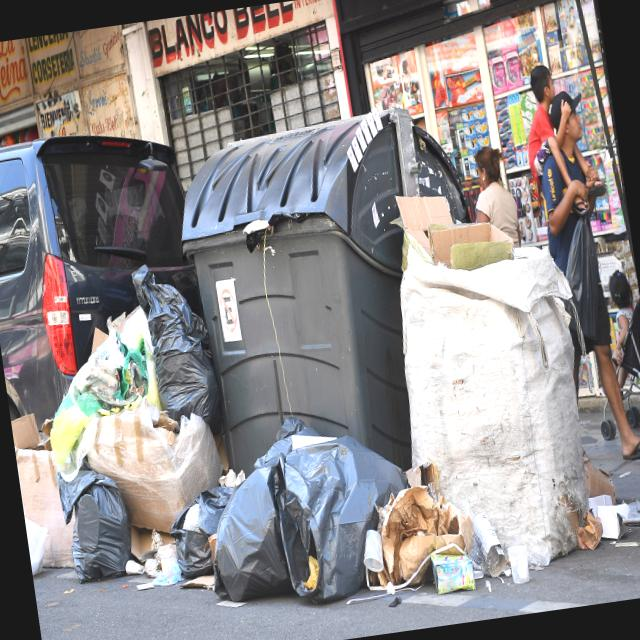garbage: (21, 170, 611, 640)
